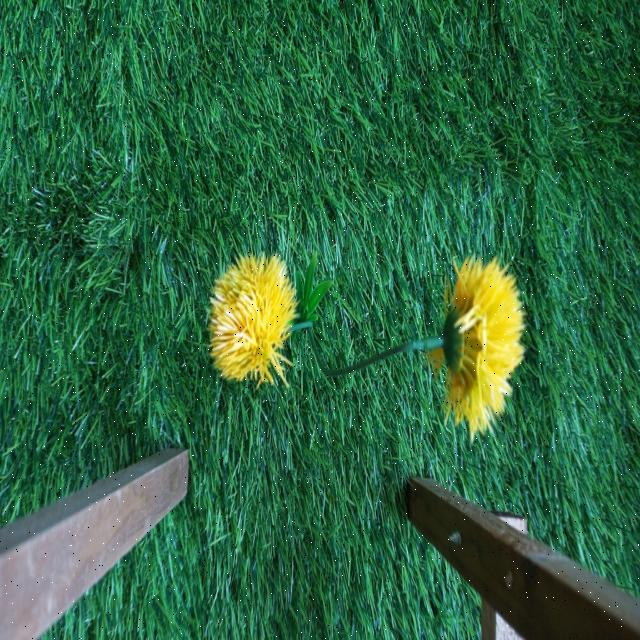base: (292, 253, 332, 345)
flower: (442, 254, 524, 432), (210, 258, 296, 380)
